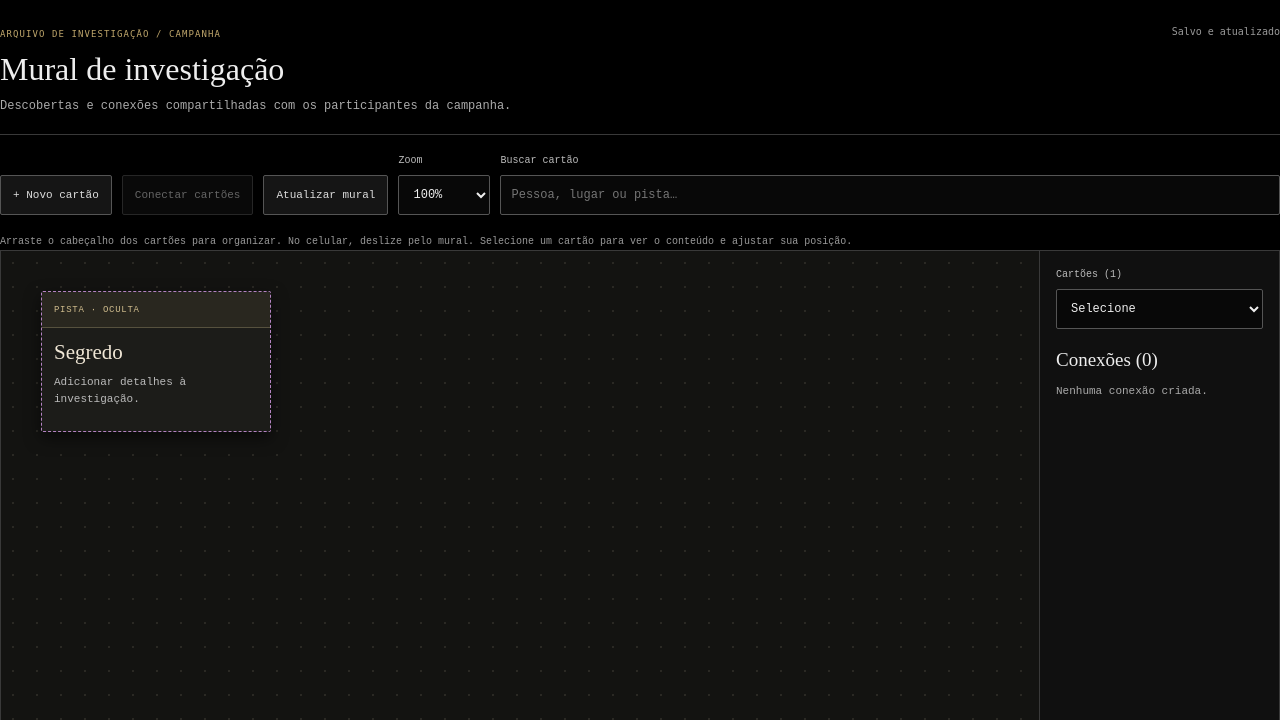
Scenario: mestre pode preparar pista oculta e revelar cartão
The image size is (1280, 720).
Click the button with aria-label "Ver cartão Segredo" at [156, 375], box x1=42 y1=328 x2=270 y2=421
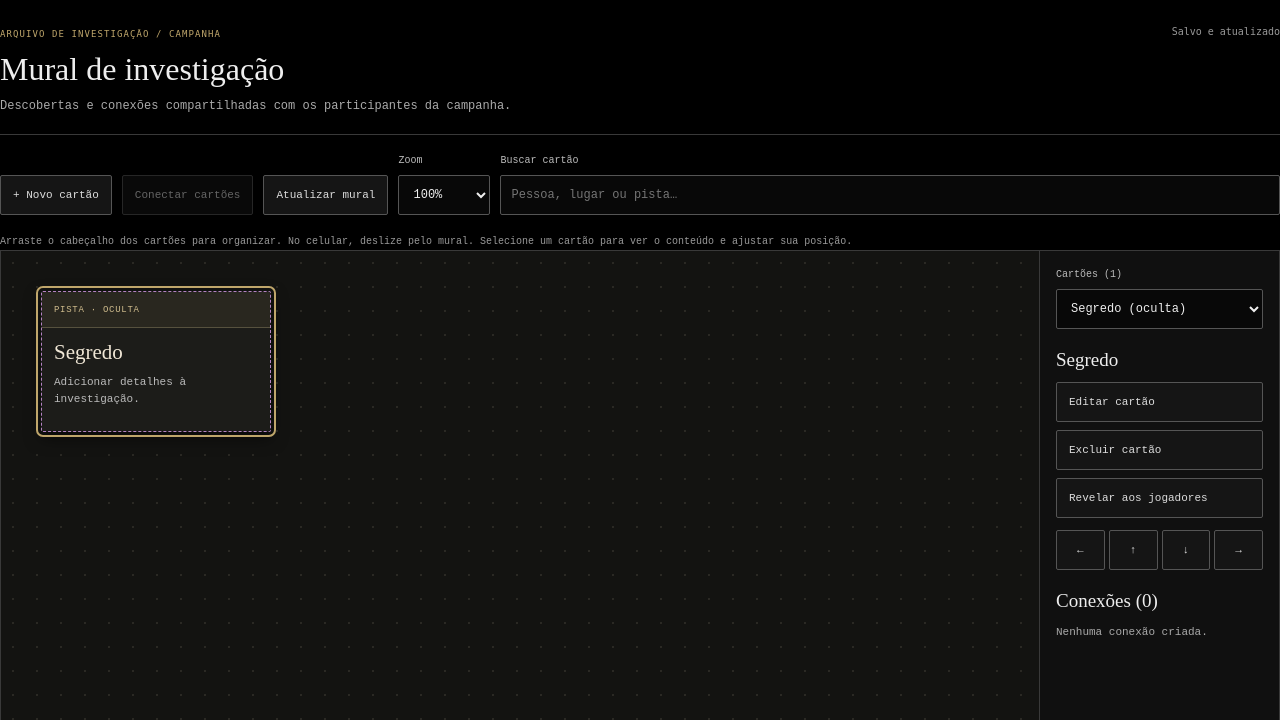
Click the button "Revelar aos jogadores" at [1160, 498], box x1=1056 y1=478 x2=1263 y2=518
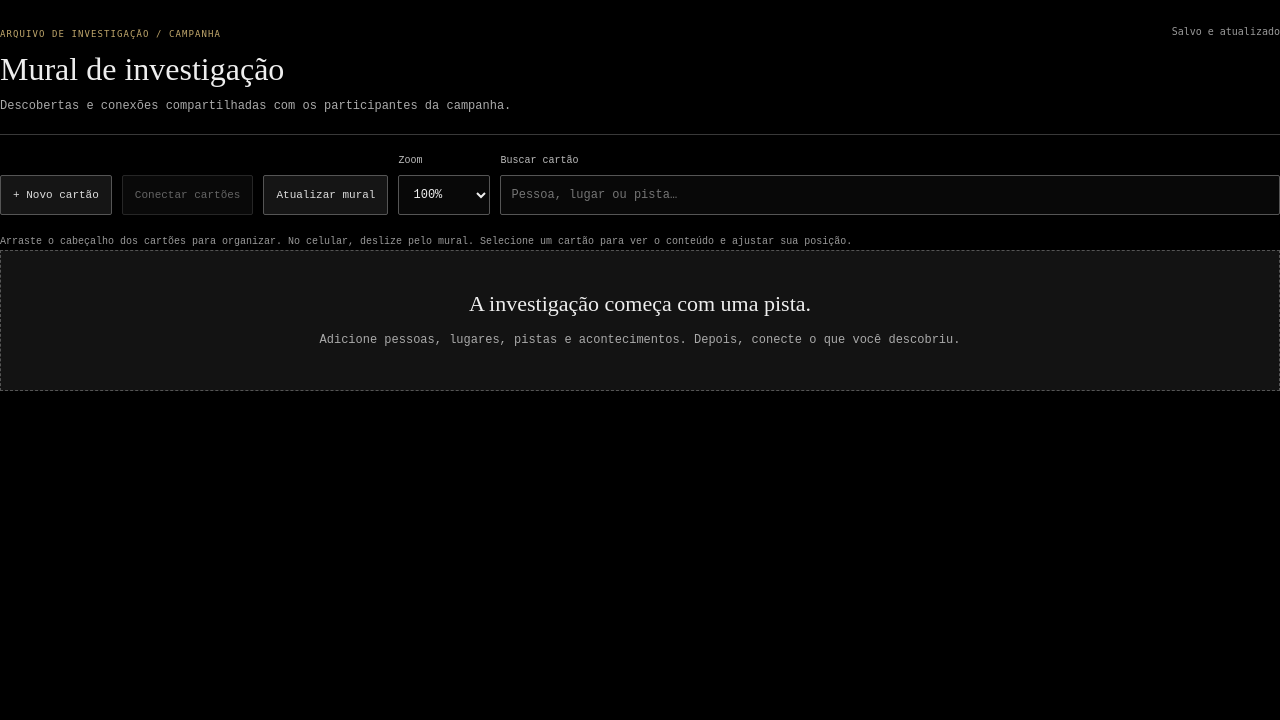
Click the button "+ Novo cartão" at [56, 195], box x1=0 y1=175 x2=112 y2=215
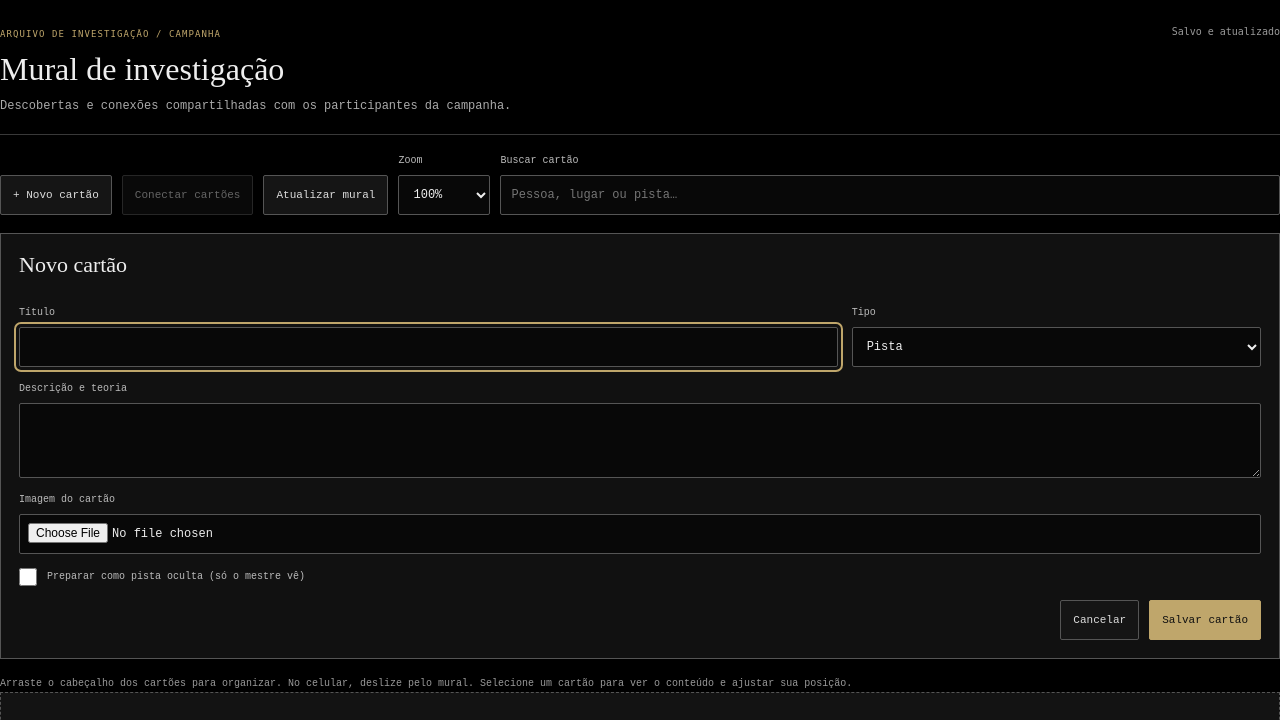
Now the checkbox labelled "Preparar como pista oculta (só o mestre vê)" is shown, box x1=19 y1=568 x2=37 y2=586
